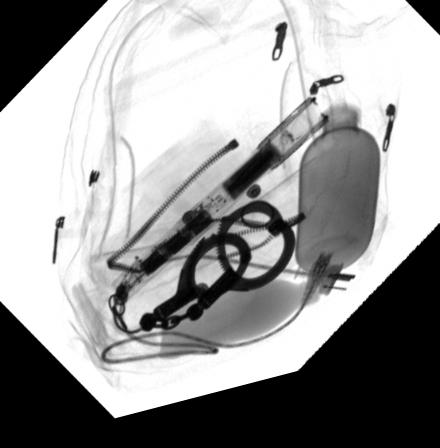Baton: (106, 111, 332, 313)
HandCuffs: (138, 210, 299, 340)
